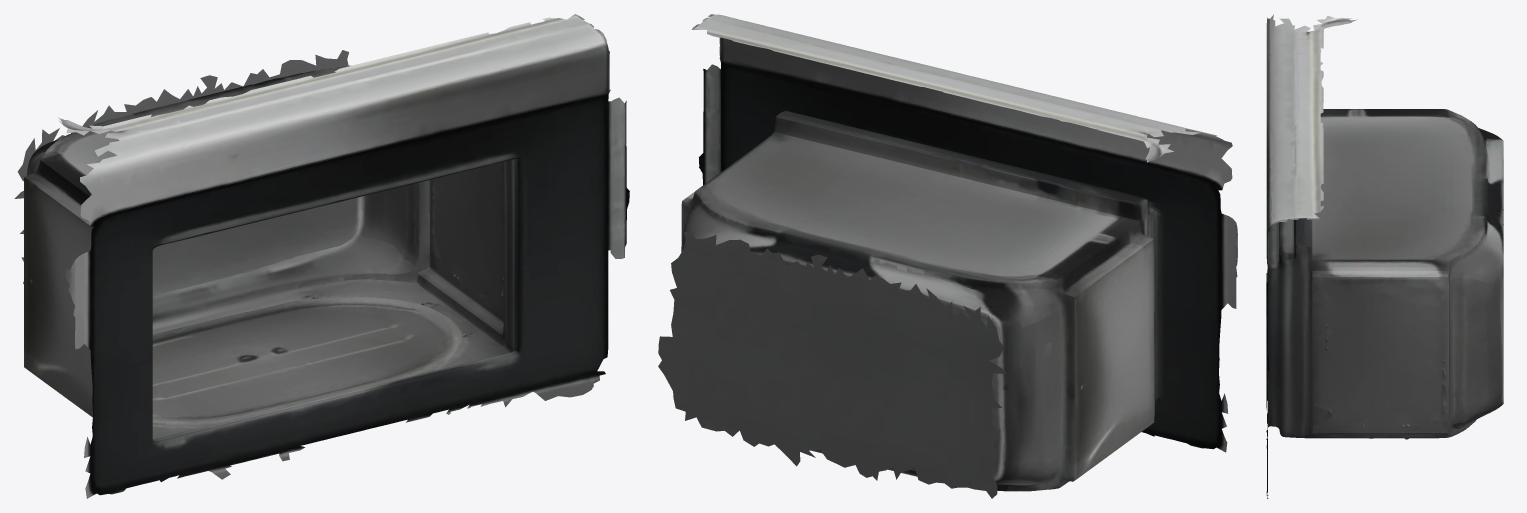
The picture shows the model from 3 angles, left to right: view 1: azimuth 30°, elevation 25°; view 2: azimuth 150°, elevation 25°; view 3: azimuth 270°, elevation 25°; orthographic projection. The views are drawn at different scales.
Visible parts, largest first — view 1: world; view 2: world; view 3: world.
Part boxes in pixels (x1,y1,x2,y2): world: (14, 14, 629, 498); world: (658, 14, 1237, 498); world: (1266, 14, 1503, 498).
Bounding box in the file's own units: 0.4205 × 0.2523 × 0.1945.
1 material, 1 textured.
